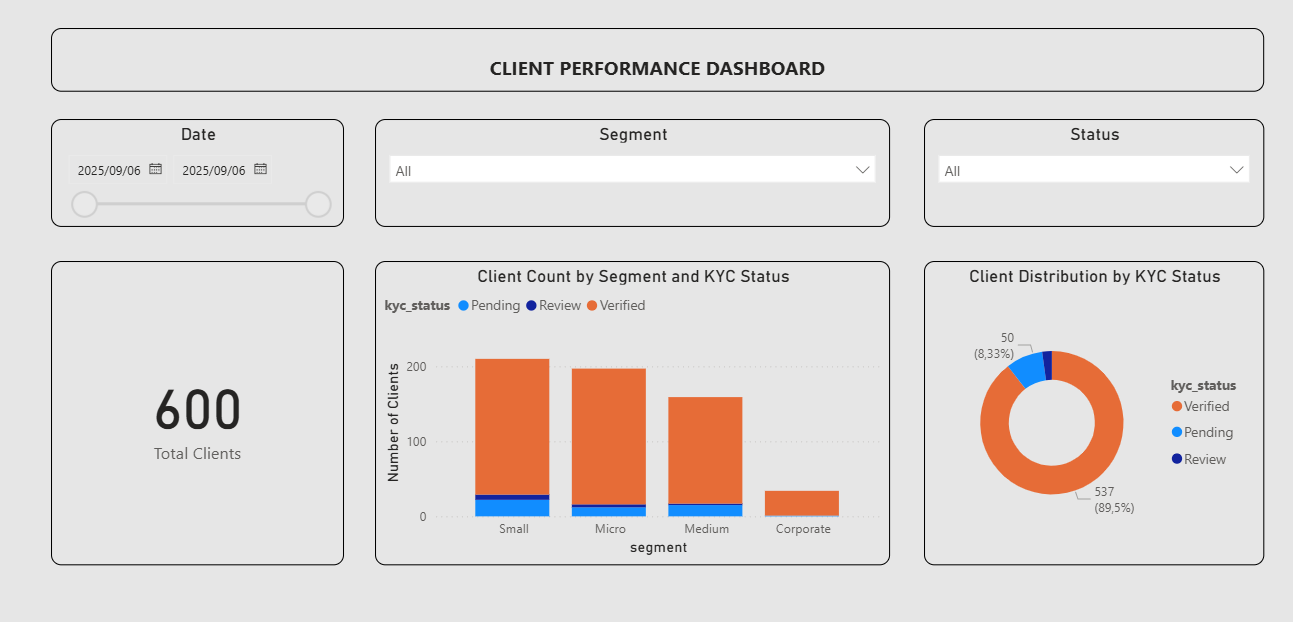

The dashboard page shown, as its layout file describes it:
{"tool":"powerbi","page":{"name":"Clients","canvas":[1280,720],"ordinal":0},"visuals":[{"type":"card","fields":{"Values":["adoption_balance_comparison_report.Total Clients"]},"box":[64.2,261.6,285,295.7],"z":0},{"type":"columnChart","title":"Client Count by Segment and KYC Status","fields":{"Category":["dim_client_report.segment"],"Y":["Sum(dim_client_report.client_count)"],"Series":["dim_client_report.kyc_status"]},"box":[379.3,261.6,500.9,295.7],"z":1},{"type":"donutChart","title":"Client Distribution by KYC Status","fields":{"Category":["dim_client_report.kyc_status"],"Y":["Sum(dim_client_report.client_count)"]},"box":[913.3,261.6,330.7,295.7],"z":2},{"type":"textbox","box":[64.2,35,1179.8,62.2],"z":3},{"type":"slicer","title":"Segment","fields":{"Values":["dim_client_report.segment"]},"box":[379.3,123.5,500.9,105],"z":4},{"type":"slicer","title":"Status","fields":{"Values":["dim_client_report.kyc_status"]},"box":[913.3,123.5,330.7,105],"z":5},{"type":"slicer","title":"Date","fields":{"Values":["dim_client_report.as_of_date"]},"box":[64.2,123.5,285,105],"z":6}]}

Visuals, with their boxes on the page's 1280x720 design canvas (x1, y1, x2, y2). These are canvas units, not pixel positions in the 1293x622 screenshot, which may show the page scaled, cropped or inside an application window:
card - adoption_balance_comparison_report.Total Clients: (64, 262, 349, 557)
"Client Count by Segment and KYC Status" columnChart: (379, 262, 880, 557)
"Client Distribution by KYC Status" donutChart: (913, 262, 1244, 557)
textbox: (64, 35, 1244, 97)
"Segment" slicer: (379, 124, 880, 228)
"Status" slicer: (913, 124, 1244, 228)
"Date" slicer: (64, 124, 349, 228)
